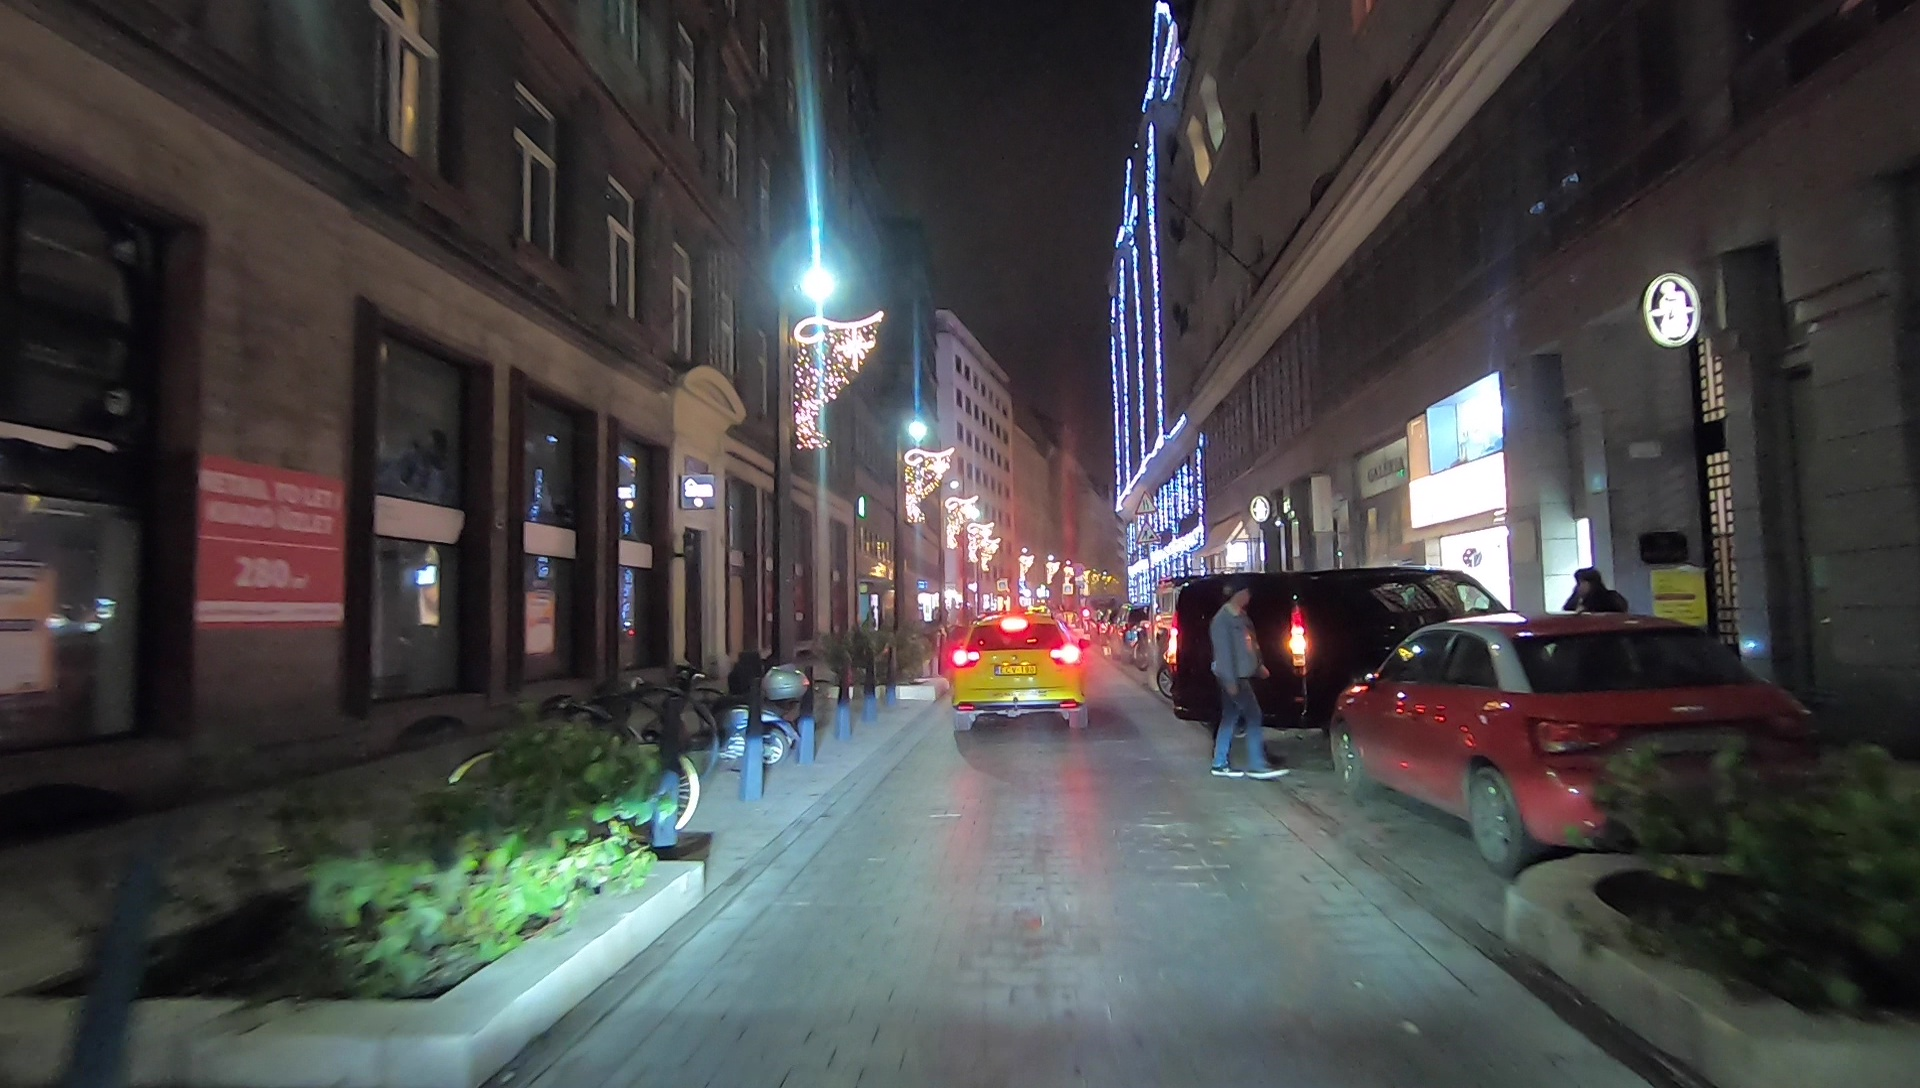person: (1204, 578, 1288, 780)
